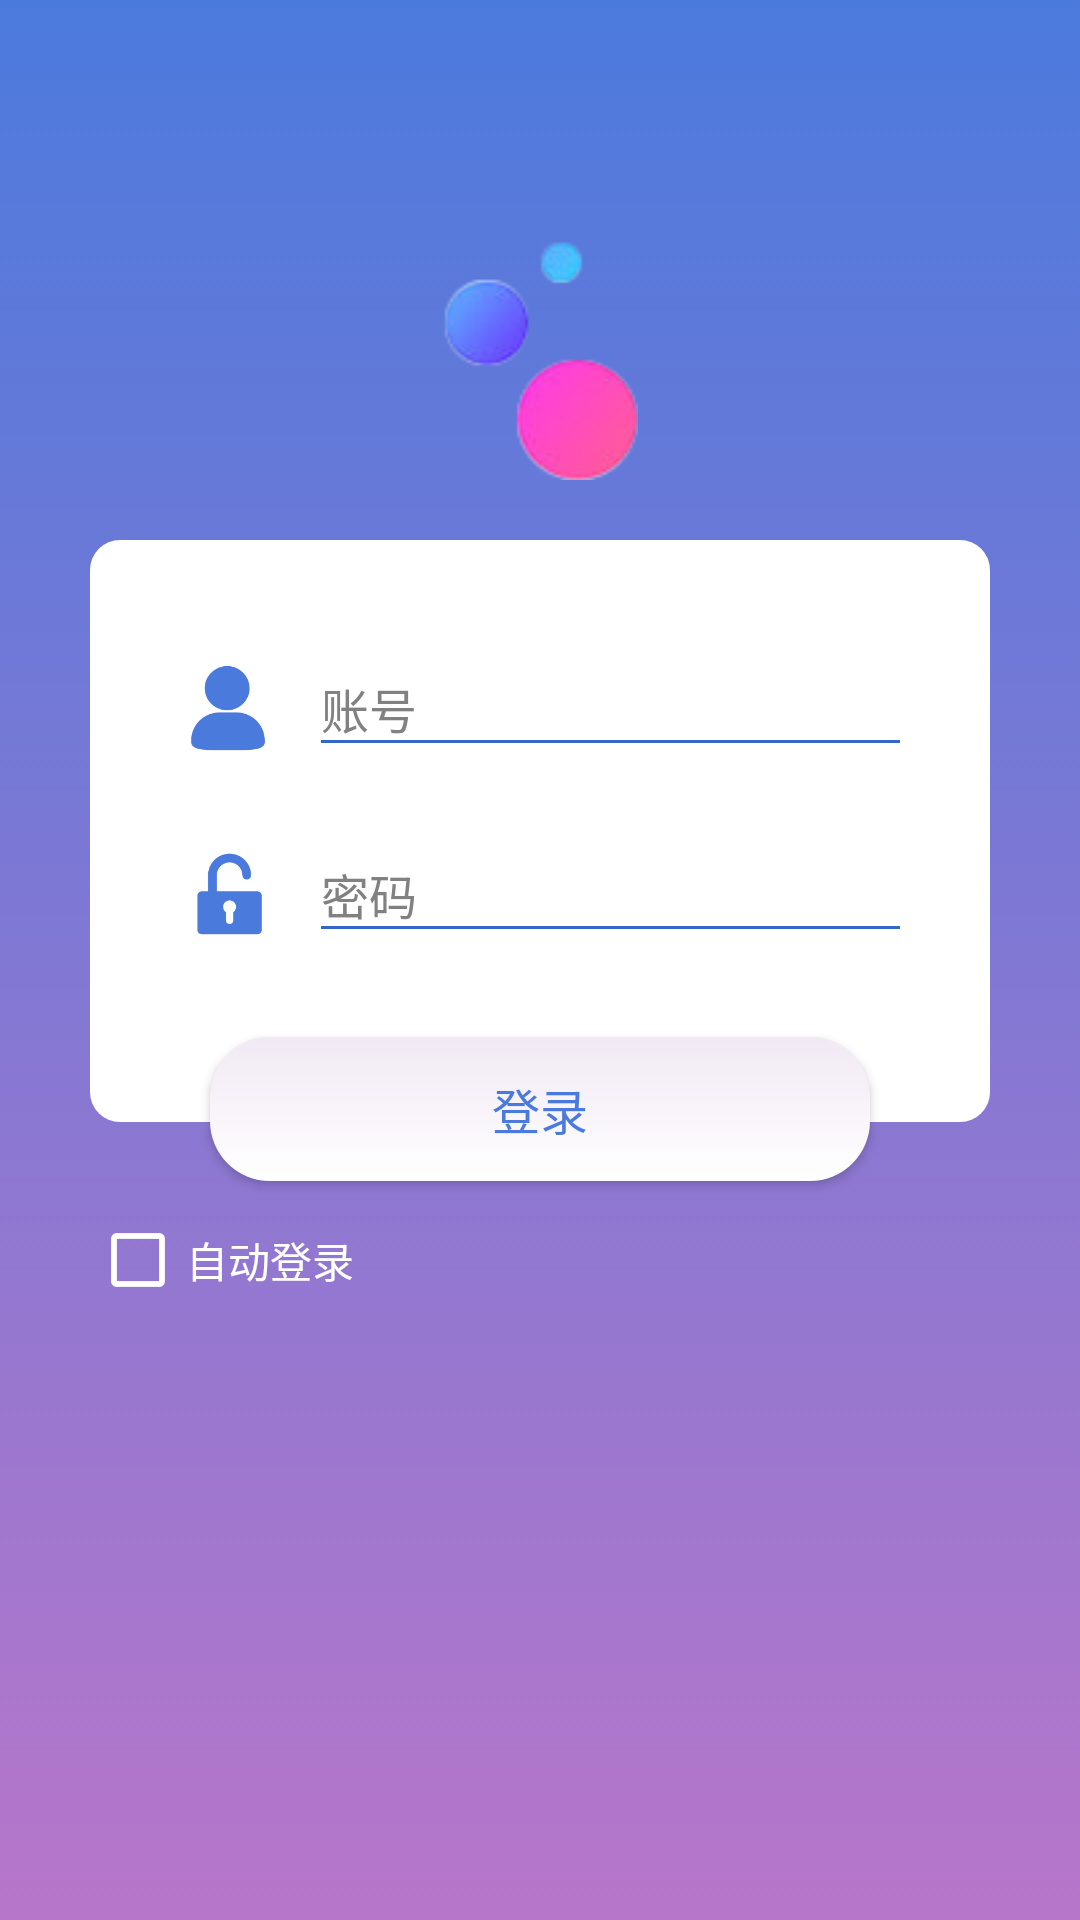

Icons on this 1080*1920 Android screen, each with its box as (x1, y1, x2, y2):
account: (191, 666, 265, 750)
lock: (197, 853, 262, 935)
